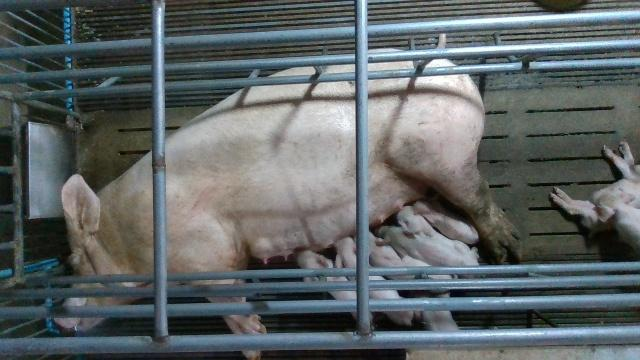piglet: (549, 138, 640, 233), (334, 236, 414, 325), (354, 233, 454, 294), (299, 251, 372, 321), (398, 205, 478, 257), (376, 227, 479, 267), (414, 200, 480, 243), (595, 192, 640, 252)
sow-sleep-lactate: (53, 32, 520, 334)
